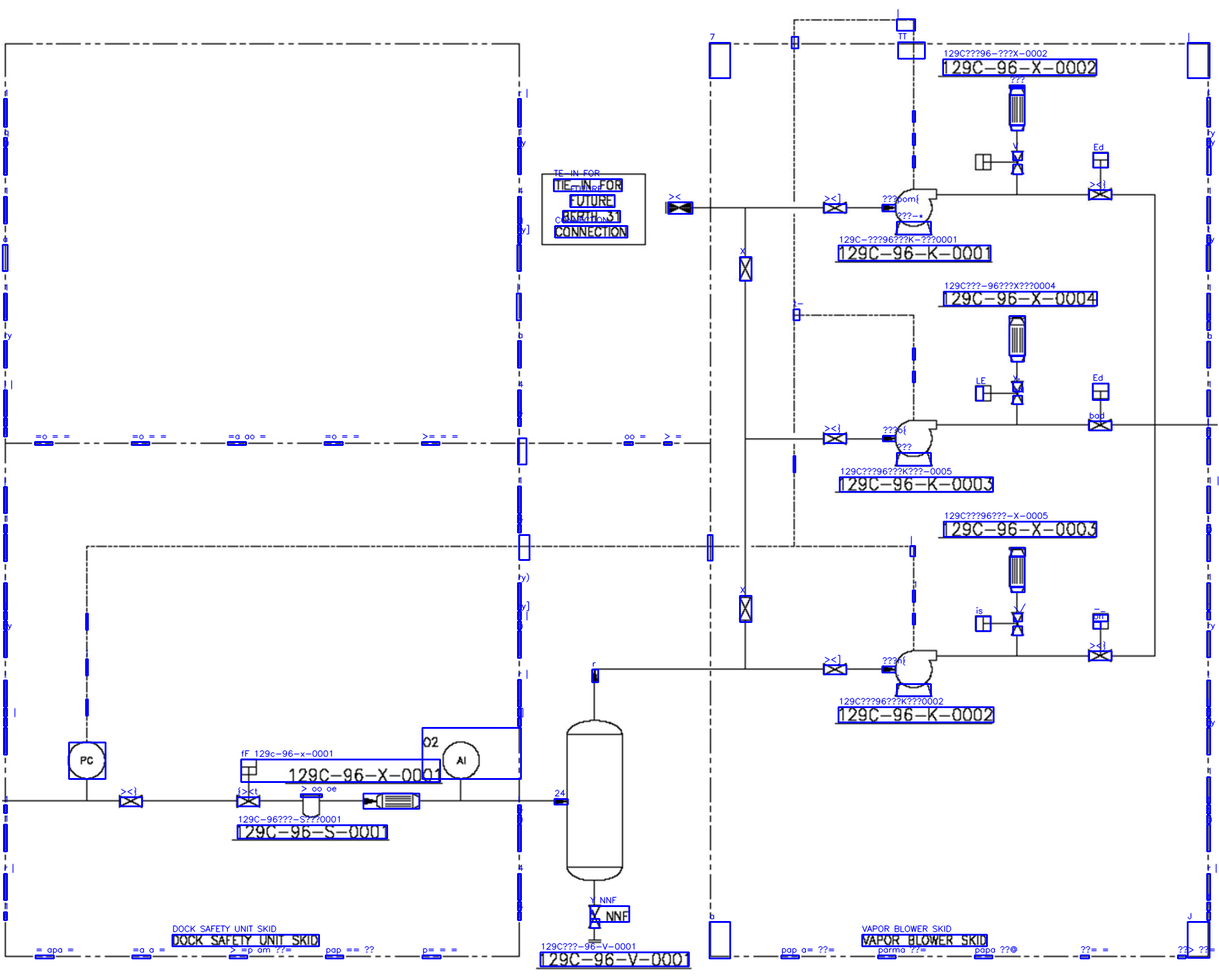Bomba: (891, 183, 940, 240), (891, 416, 940, 470), (891, 647, 940, 700)
Instrumento: (64, 738, 106, 782), (440, 739, 480, 781)
Outro: (298, 790, 323, 819)
Reator: (1004, 311, 1028, 367), (1005, 544, 1029, 595), (1005, 83, 1029, 133), (371, 792, 425, 810)
Tanque: (562, 717, 626, 885)
Válvula: (232, 753, 265, 810), (1084, 148, 1116, 203), (1084, 610, 1116, 665), (971, 378, 1028, 407), (971, 609, 1027, 638), (1085, 380, 1116, 432), (971, 148, 1027, 176), (818, 659, 852, 678), (585, 902, 605, 933), (819, 199, 850, 216), (820, 429, 849, 447), (737, 255, 753, 285), (737, 593, 752, 624), (114, 794, 147, 808)
